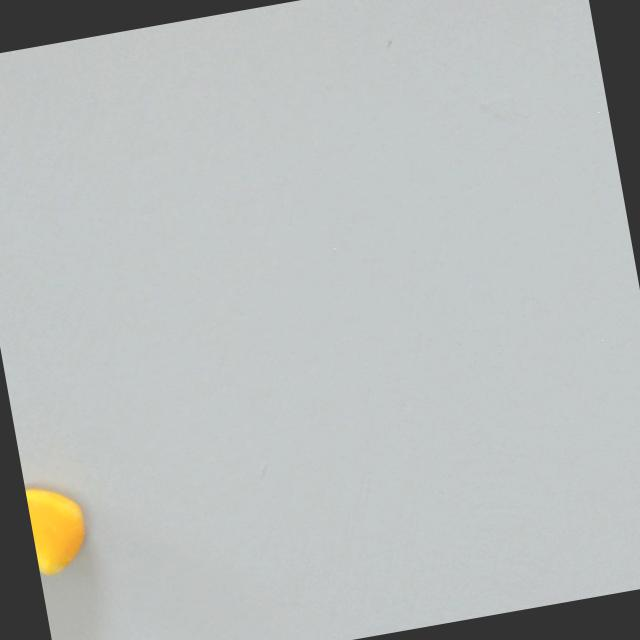no_canjicado: (23, 466, 102, 586)
